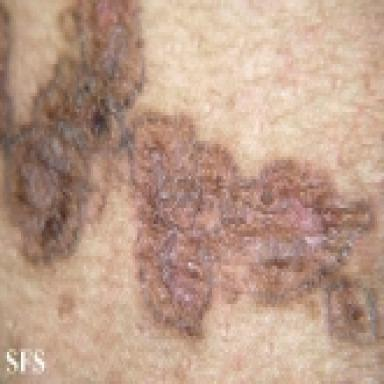Porokeratosis: (0, 1, 384, 351)
